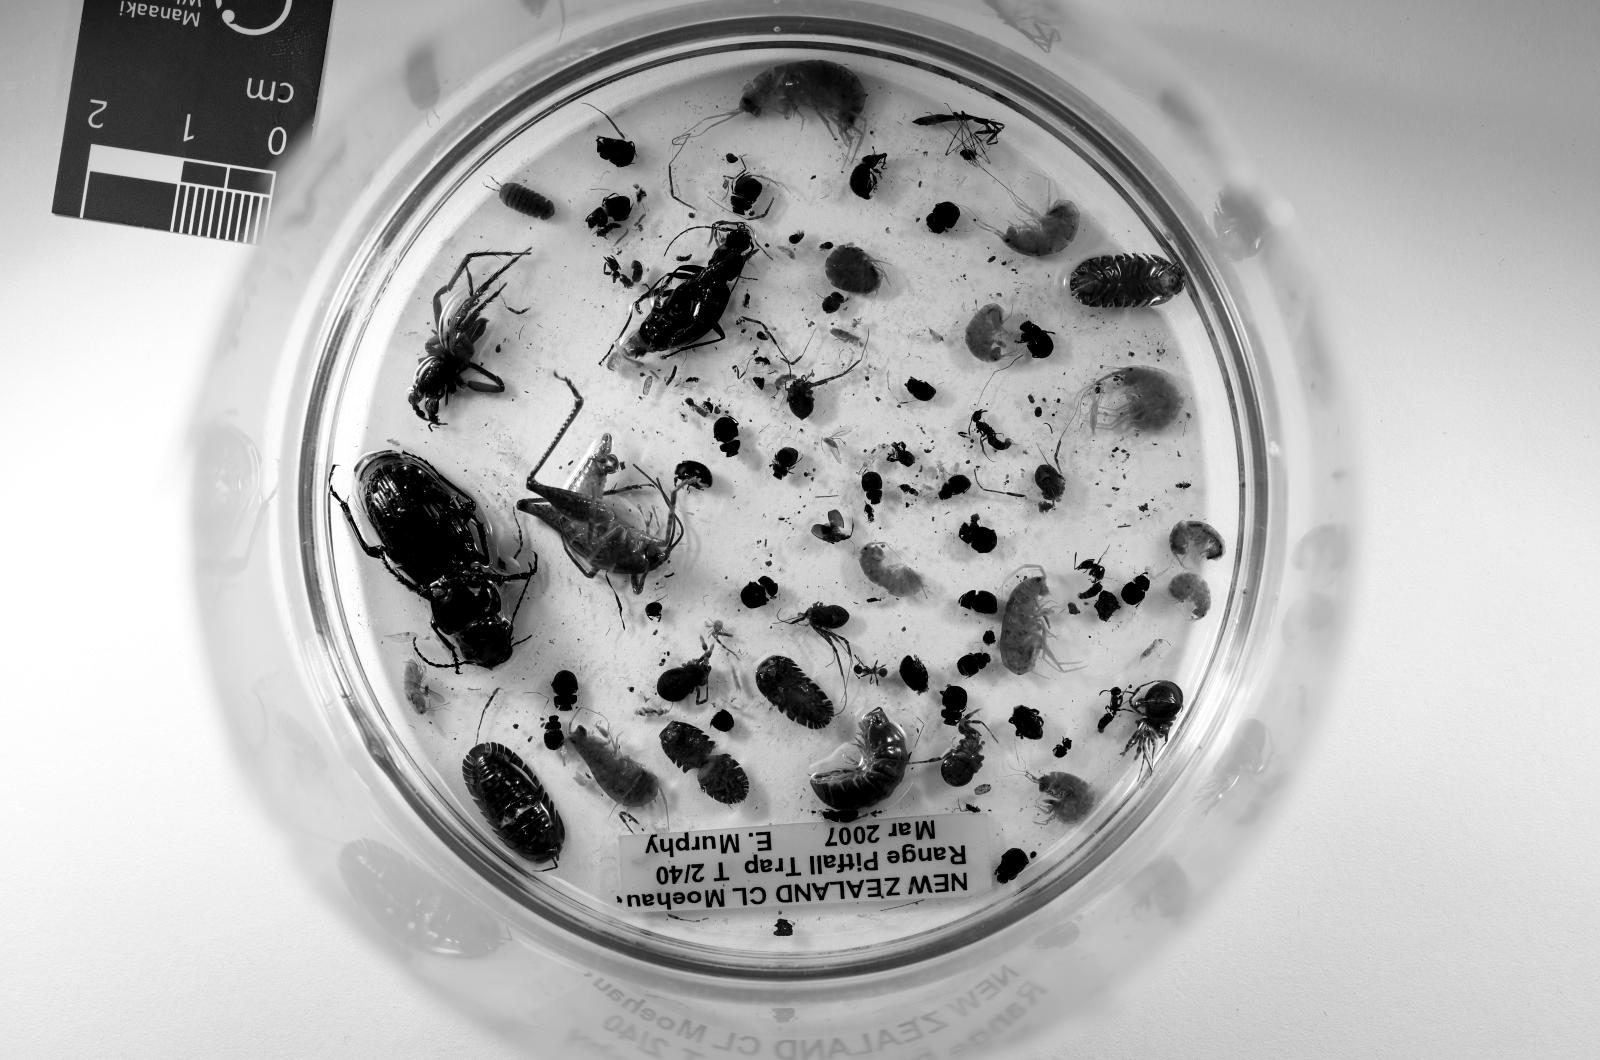acari: (788, 230, 803, 245), (818, 243, 835, 252)
amphipoda: (713, 59, 866, 161), (1000, 565, 1081, 674), (569, 724, 660, 807), (1113, 367, 1187, 432), (1000, 202, 1081, 258), (860, 543, 925, 596), (1031, 774, 1094, 823), (966, 304, 1006, 363), (1168, 522, 1225, 558), (1168, 571, 1212, 618), (403, 658, 432, 715), (607, 351, 631, 376)
araneae: (409, 252, 529, 426)
carabidae: (341, 451, 538, 667), (626, 224, 757, 357)
coleoptera: (850, 153, 887, 199), (584, 195, 631, 230), (1018, 319, 1054, 357), (959, 518, 997, 552), (731, 174, 763, 214), (993, 848, 1028, 885), (675, 459, 713, 491), (1010, 705, 1044, 739), (740, 577, 778, 608), (550, 671, 578, 711), (940, 686, 969, 726), (713, 416, 740, 457), (925, 202, 959, 233), (900, 655, 928, 692), (959, 590, 997, 615), (938, 476, 972, 500), (957, 652, 991, 677), (772, 447, 799, 478), (1122, 575, 1149, 606), (544, 715, 565, 751), (906, 379, 934, 401), (862, 472, 881, 503), (822, 810, 860, 823), (822, 292, 843, 314), (1054, 736, 1071, 757)
collembola: (1138, 640, 1166, 668), (831, 329, 862, 344), (634, 705, 673, 717)
diptera: (822, 426, 850, 463), (753, 354, 772, 367), (862, 503, 875, 522), (900, 485, 919, 497), (744, 292, 750, 308), (894, 444, 900, 447)
formicidae: (972, 409, 1012, 451), (603, 254, 643, 289), (1075, 558, 1106, 600), (1097, 686, 1122, 733), (853, 661, 887, 686)
isopoda: (462, 742, 565, 864), (809, 707, 909, 810), (660, 720, 750, 804), (1069, 254, 1181, 308), (757, 655, 835, 730), (497, 183, 556, 220)
opiliones: (782, 602, 853, 702), (1125, 680, 1185, 757), (784, 360, 860, 419), (931, 711, 984, 786), (656, 649, 710, 702), (1035, 444, 1065, 506)
orthoptera: (519, 379, 685, 593)
reduviidae: (913, 111, 1003, 143)
